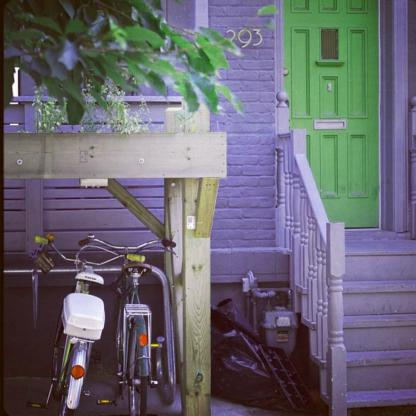door: (286, 6, 380, 224)
